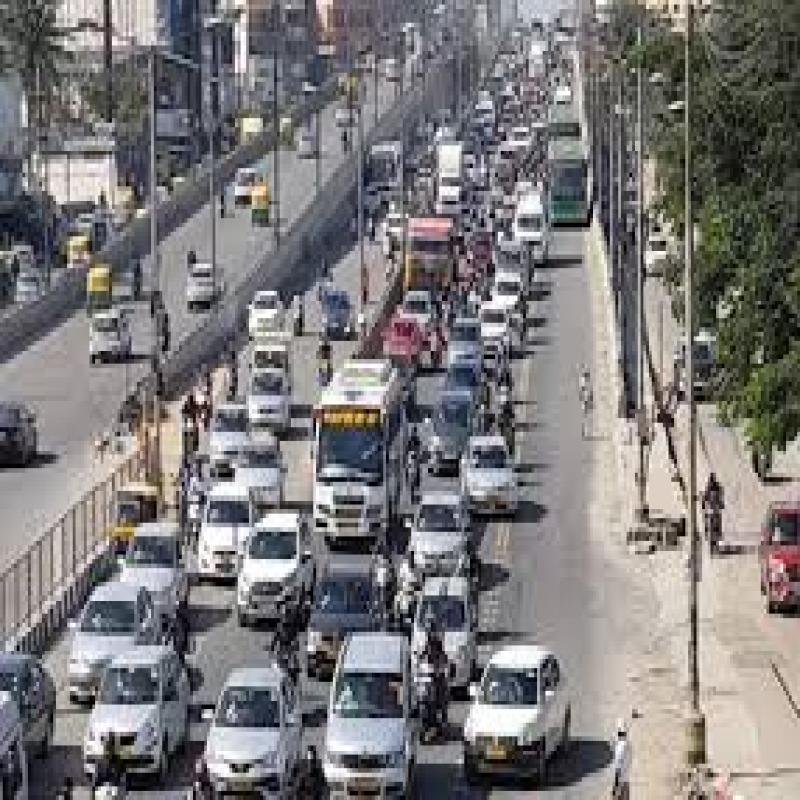bus: (303, 354, 407, 541)
car: (459, 641, 564, 760), (337, 637, 419, 789), (200, 664, 295, 786), (98, 660, 193, 760), (201, 482, 264, 613), (78, 595, 148, 684), (238, 530, 312, 614), (459, 432, 530, 517), (253, 366, 307, 436), (481, 298, 518, 362)
